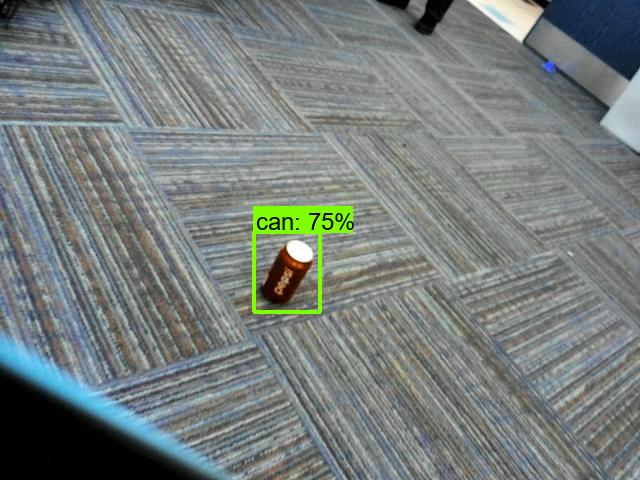can: (257, 229, 316, 312)
